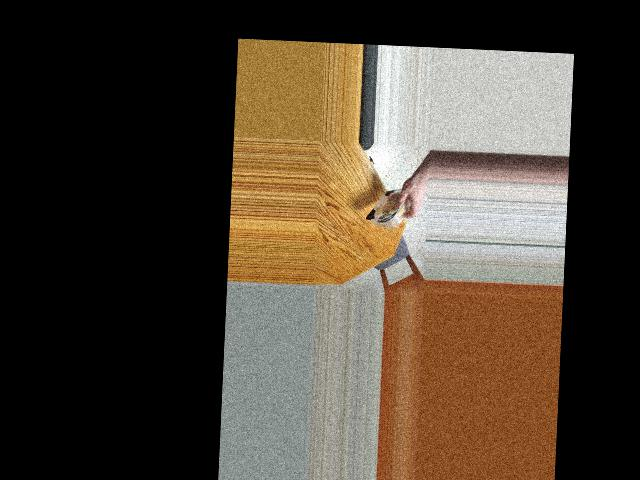cheese: (367, 174, 409, 234)
